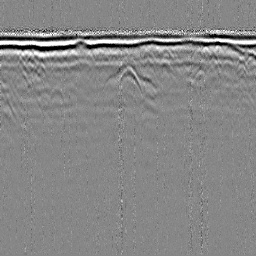cavity: (118, 64, 142, 92)
